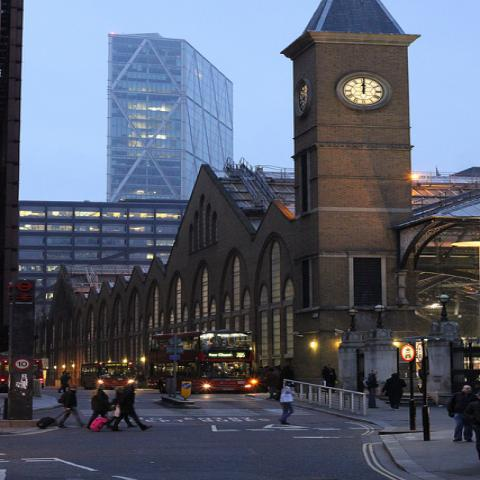bus: (148, 332, 253, 394), (79, 363, 140, 391)
